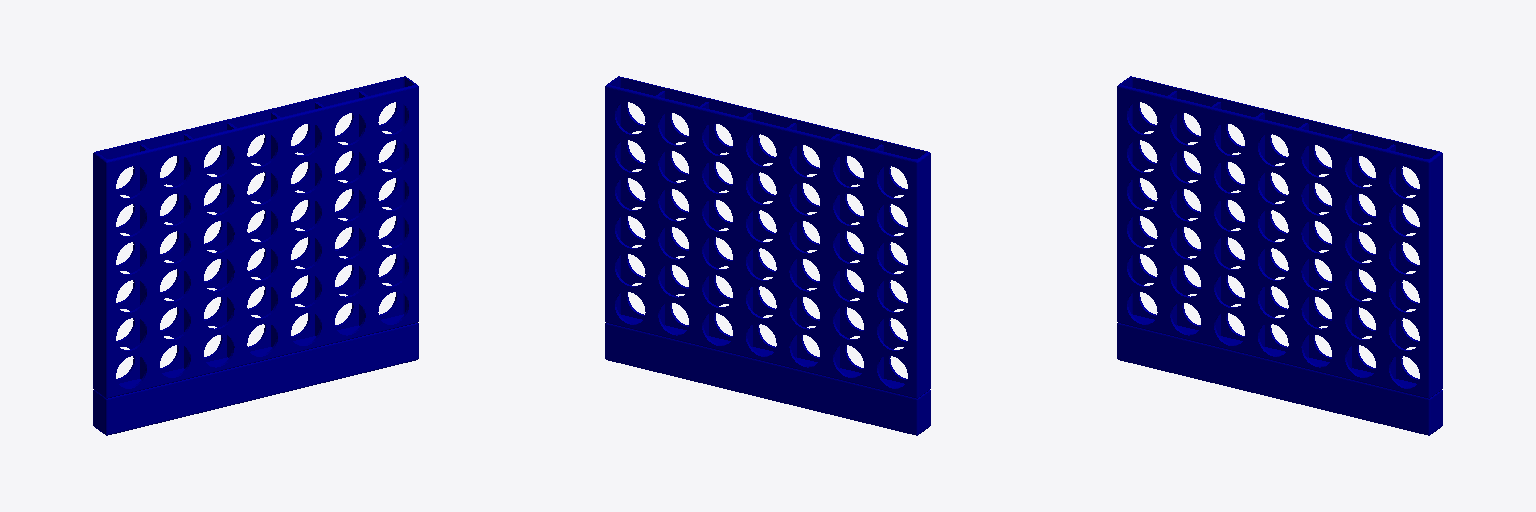
File: ConnectFourBoard.obj
3 views of the same model, side by side, from view 1: azimuth 30°, elevation 25°; view 2: azimuth 150°, elevation 25°; view 3: azimuth 330°, elevation 25° (orthographic).
Visible parts, largest first — view 1: 4gewinnt_4gewinnt.001; view 2: 4gewinnt_4gewinnt.001; view 3: 4gewinnt_4gewinnt.001.
Part boxes in pixels (x1,y1,x2,y2): 4gewinnt_4gewinnt.001: (93, 76, 418, 435); 4gewinnt_4gewinnt.001: (605, 76, 930, 435); 4gewinnt_4gewinnt.001: (1117, 76, 1442, 435).
Size of the model in its own units: 119 by 99.65 by 8.97.